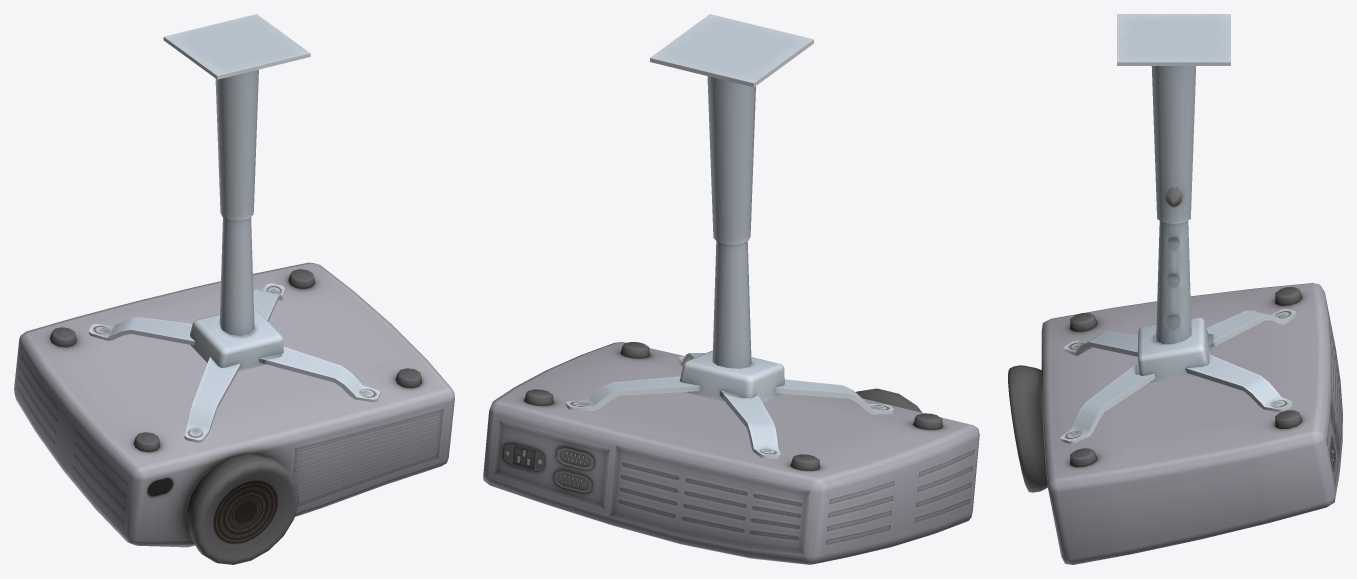
Rendered from OfficeProjector01_2.FBX.
3 renders of one model, left to right at view 1: azimuth 30°, elevation 25°; view 2: azimuth 150°, elevation 25°; view 3: azimuth 270°, elevation 25°, orthographic. The views are drawn at different scales.
Visible parts, largest first — view 1: OfficeProjector01_2; view 2: OfficeProjector01_2; view 3: OfficeProjector01_2.
Boxes of the visible parts, box(x1,y1,x2,y2) form: OfficeProjector01_2: box(14, 14, 454, 564); OfficeProjector01_2: box(483, 14, 979, 564); OfficeProjector01_2: box(1008, 14, 1342, 564).
Size of what is drawn, in the model's own units: 0.6703 by 0.8813 by 0.5571.
